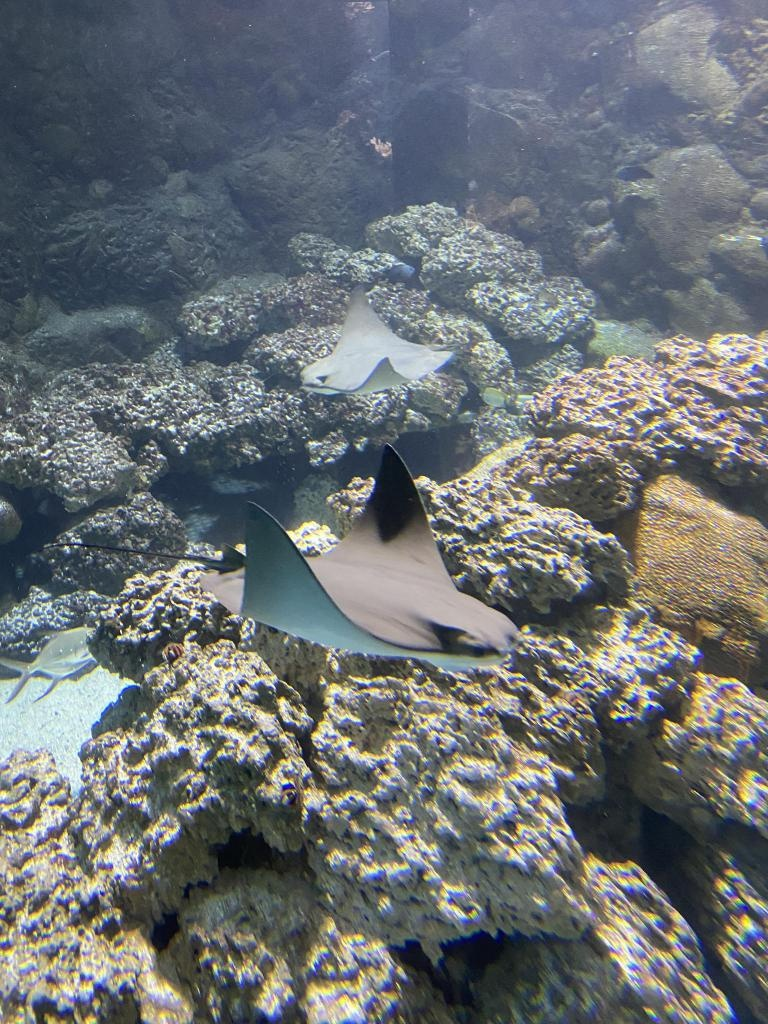fish: (1, 624, 113, 706)
stingray: (200, 436, 540, 674), (292, 278, 452, 406)
